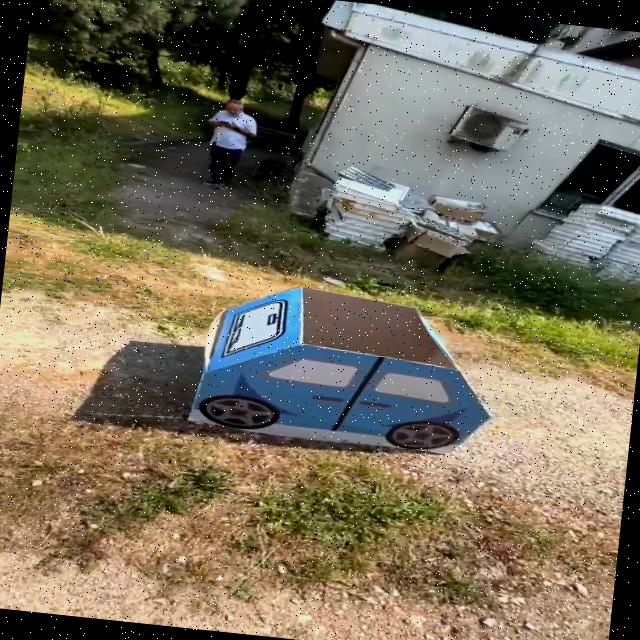blue_car: (145, 258, 546, 502)
